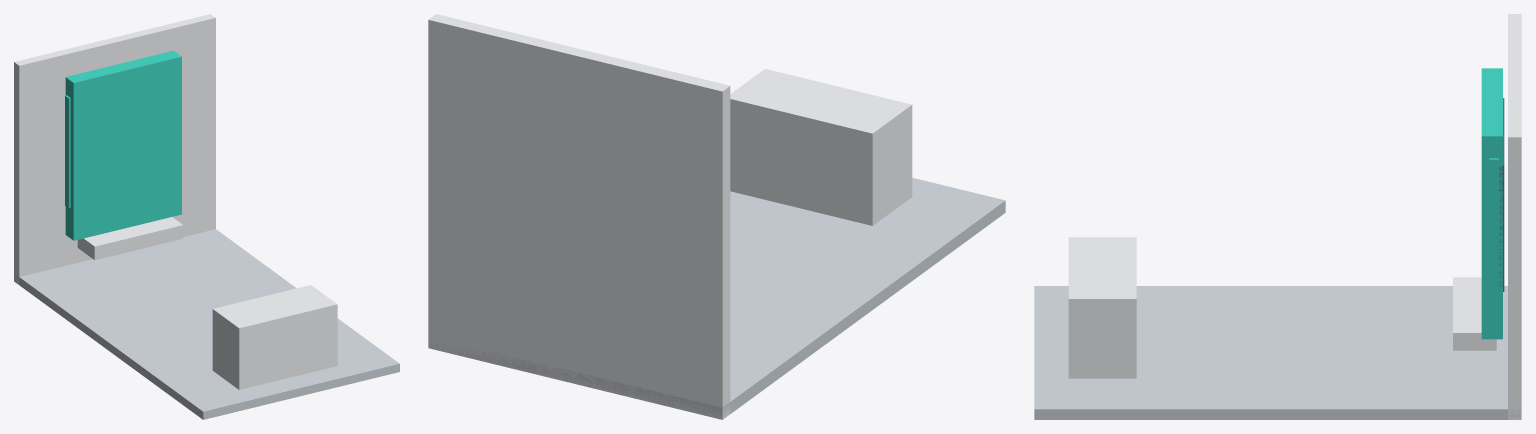
3 renders of one model, left to right at view 1: azimuth 30°, elevation 25°; view 2: azimuth 150°, elevation 25°; view 3: azimuth 270°, elevation 25°, orthographic. The views are drawn at different scales.
Parts seen in each view (by area): view 1: Exhibition Booth Concept; view 2: Exhibition Booth Concept; view 3: Exhibition Booth Concept.
Boxes of the visible parts, x1,y1,x2,y2 form: Exhibition Booth Concept: [14, 14, 399, 419]; Exhibition Booth Concept: [428, 14, 1005, 419]; Exhibition Booth Concept: [1034, 14, 1521, 419].
Bounding box in the file's own units: 3 × 3.2 × 5.
